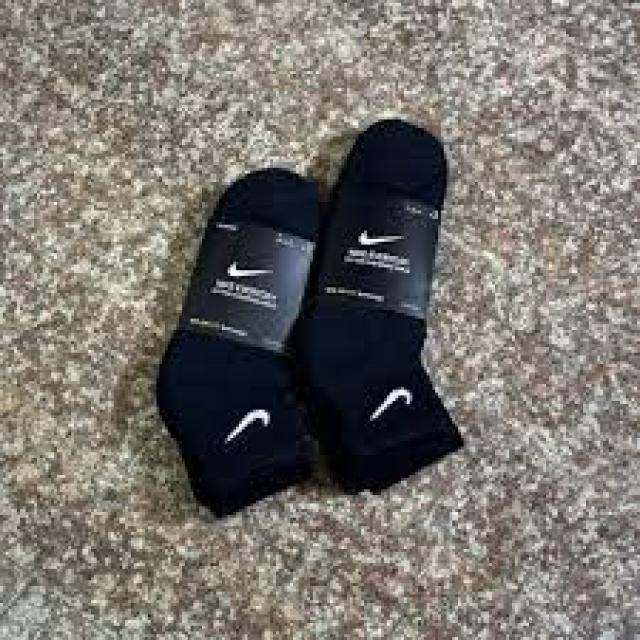sock: (293, 117, 464, 492), (154, 165, 322, 518)
